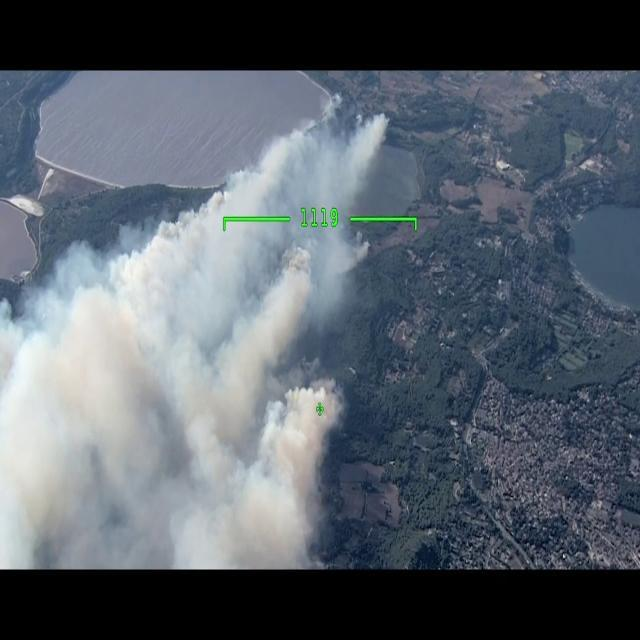Smoke: (0, 194, 390, 568)
